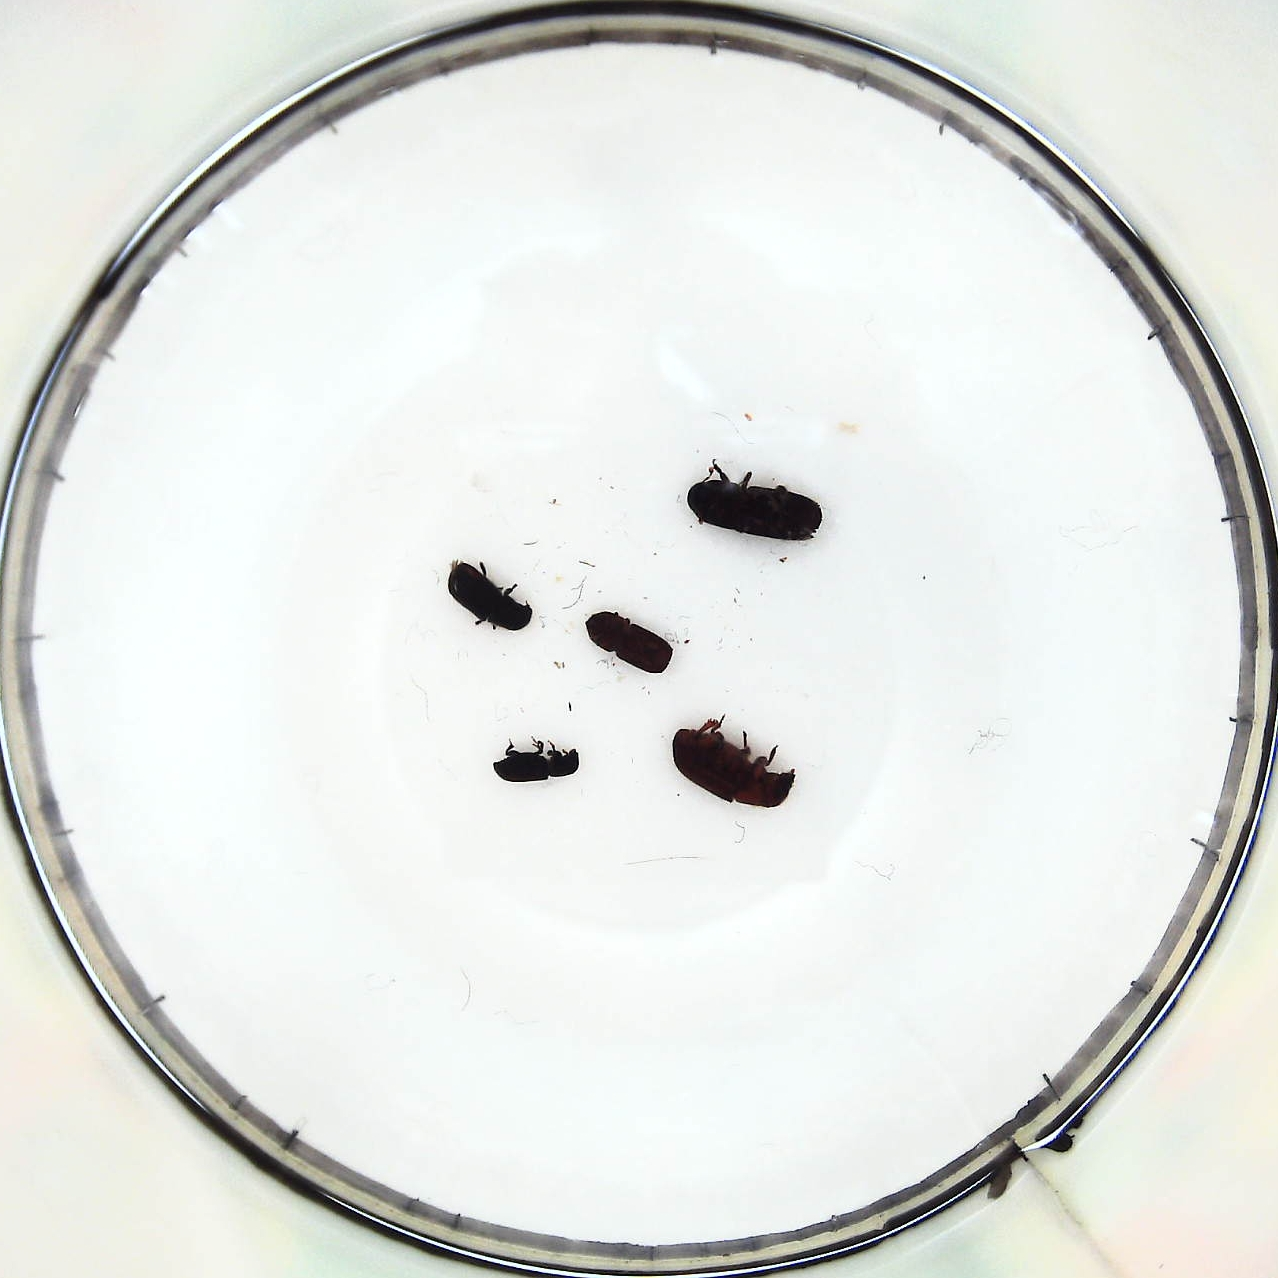Boerner: (688, 472, 827, 544)
Leconte: (671, 717, 798, 809)
Linnaeus: (583, 609, 676, 676)
armandi: (444, 558, 532, 635)
coleoptera: (494, 742, 582, 784)
